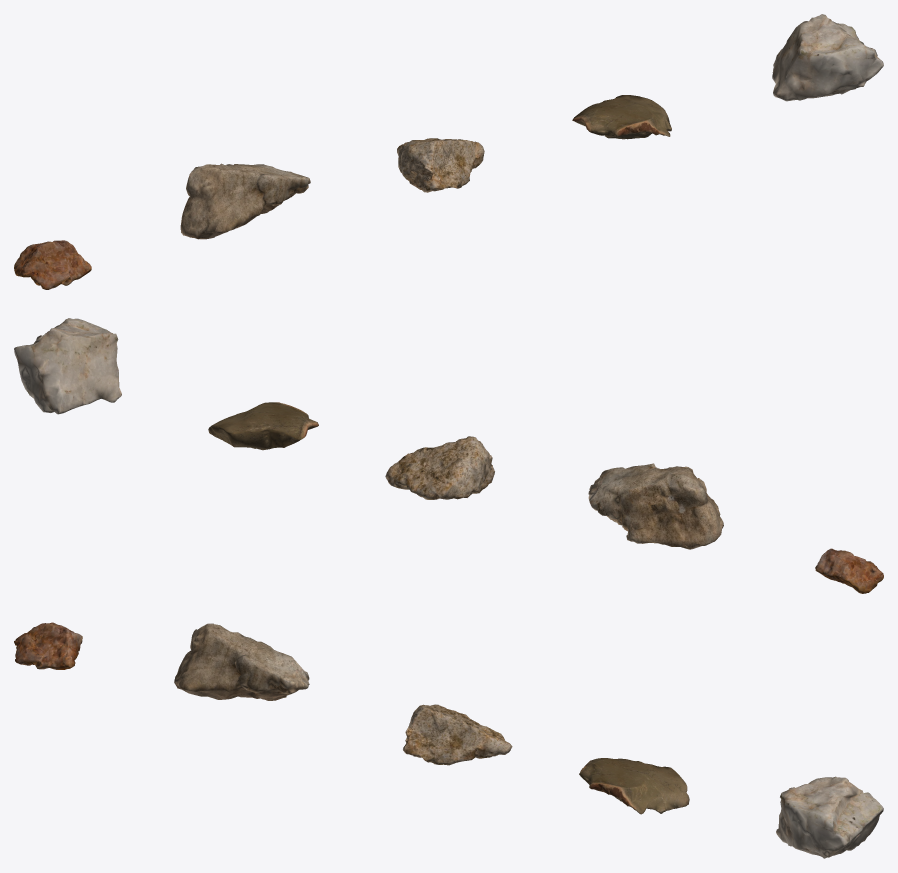
The model's file is namaqualand_stones_01.glb.
3 renders of one model, top to bottom at view 1: azimuth 30°, elevation 25°; view 2: azimuth 150°, elevation 25°; view 3: azimuth 330°, elevation 25°, orthographic.
Visible parts, largest first — view 1: namaqualand_stones_01_e_lod0, namaqualand_stones_01_b_lod0, namaqualand_stones_01_c_lod0, namaqualand_stones_01_d_lod0, namaqualand_stones_01_a_lod0; view 2: namaqualand_stones_01_b_lod0, namaqualand_stones_01_e_lod0, namaqualand_stones_01_c_lod0, namaqualand_stones_01_d_lod0, namaqualand_stones_01_a_lod0; view 3: namaqualand_stones_01_b_lod0, namaqualand_stones_01_e_lod0, namaqualand_stones_01_c_lod0, namaqualand_stones_01_d_lod0, namaqualand_stones_01_a_lod0.
Boxes of the visible parts, x1,y1,x2,y2 form: namaqualand_stones_01_e_lod0: [772, 14, 883, 101]; namaqualand_stones_01_b_lod0: [180, 163, 310, 239]; namaqualand_stones_01_c_lod0: [397, 138, 484, 192]; namaqualand_stones_01_d_lod0: [572, 95, 671, 139]; namaqualand_stones_01_a_lod0: [14, 240, 91, 289]; namaqualand_stones_01_b_lod0: [588, 463, 723, 549]; namaqualand_stones_01_e_lod0: [14, 318, 121, 414]; namaqualand_stones_01_c_lod0: [385, 436, 494, 499]; namaqualand_stones_01_d_lod0: [208, 402, 318, 450]; namaqualand_stones_01_a_lod0: [815, 548, 883, 593]; namaqualand_stones_01_b_lod0: [174, 623, 309, 700]; namaqualand_stones_01_e_lod0: [776, 776, 883, 858]; namaqualand_stones_01_c_lod0: [403, 704, 512, 765]; namaqualand_stones_01_d_lod0: [579, 758, 689, 814]; namaqualand_stones_01_a_lod0: [14, 622, 82, 669].
Size of what is drawn, in the model's own units: 1.02 by 0.084 by 0.112.
1 material, 1 textured.
